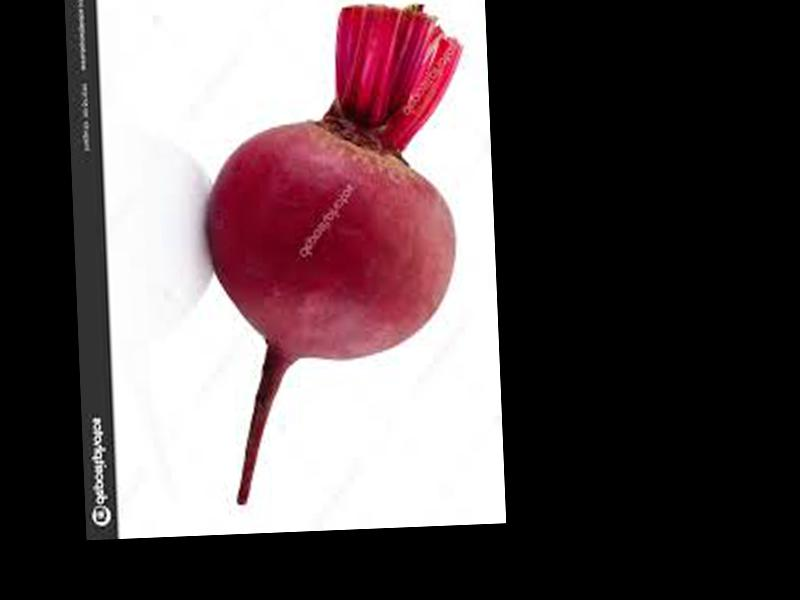Beet: (197, 0, 477, 505)
